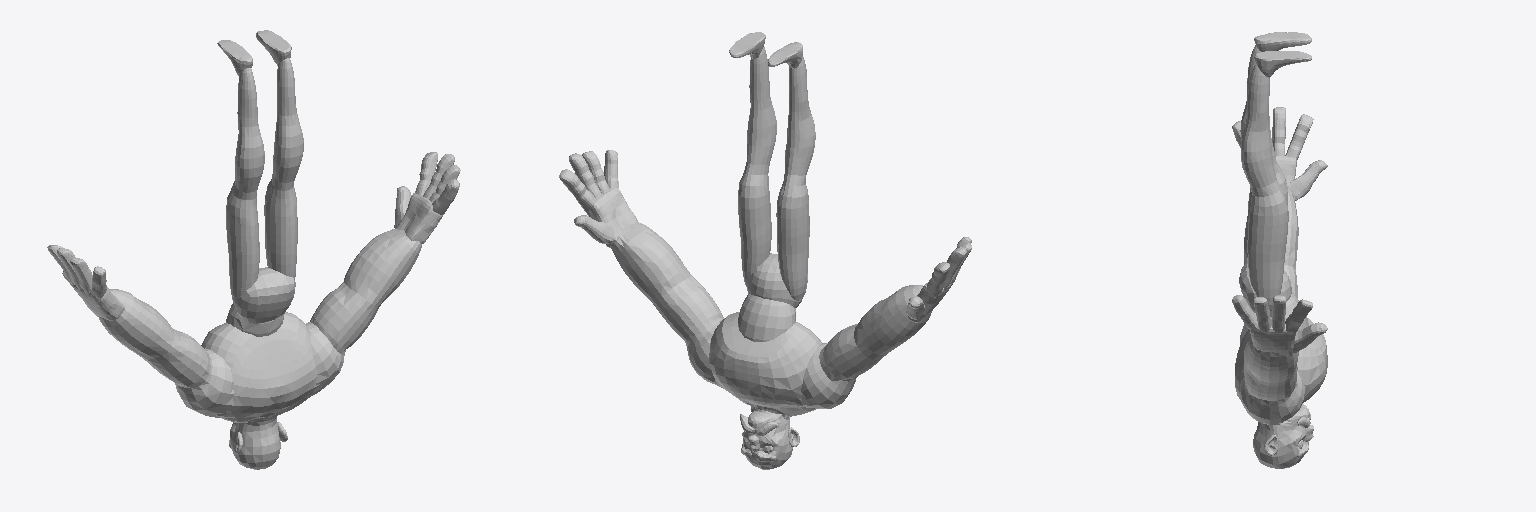
The model's file is Sarge Low Poly.obj.
The picture shows the model from 3 angles: view 1: azimuth 30°, elevation 25°; view 2: azimuth 150°, elevation 25°; view 3: azimuth 270°, elevation 25°; orthographic projection.
Parts seen in each view (by area): view 1: Group5818; view 2: Group5818; view 3: Group5818.
Boxes of the visible parts, <box> form: Group5818: <box>47,30,460,469</box>; Group5818: <box>559,32,971,469</box>; Group5818: <box>1232,32,1327,468</box>.
Size of the model in its own units: 12.94 by 13.16 by 2.71.